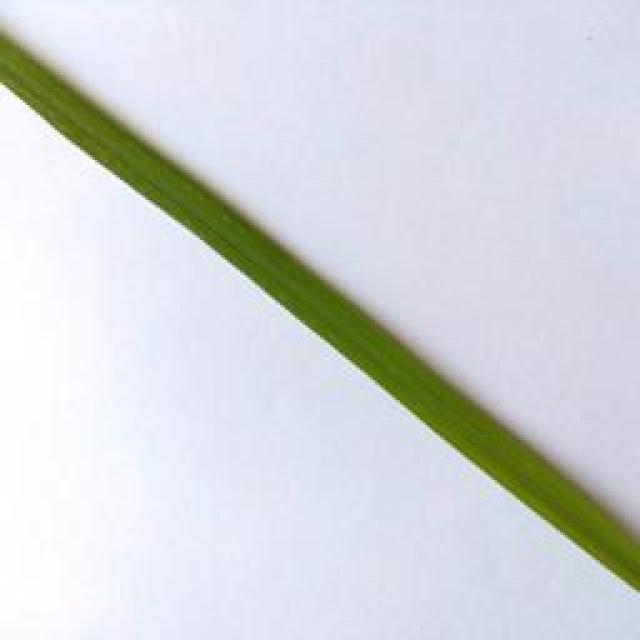Healthy-Plant: (0, 38, 640, 595)
